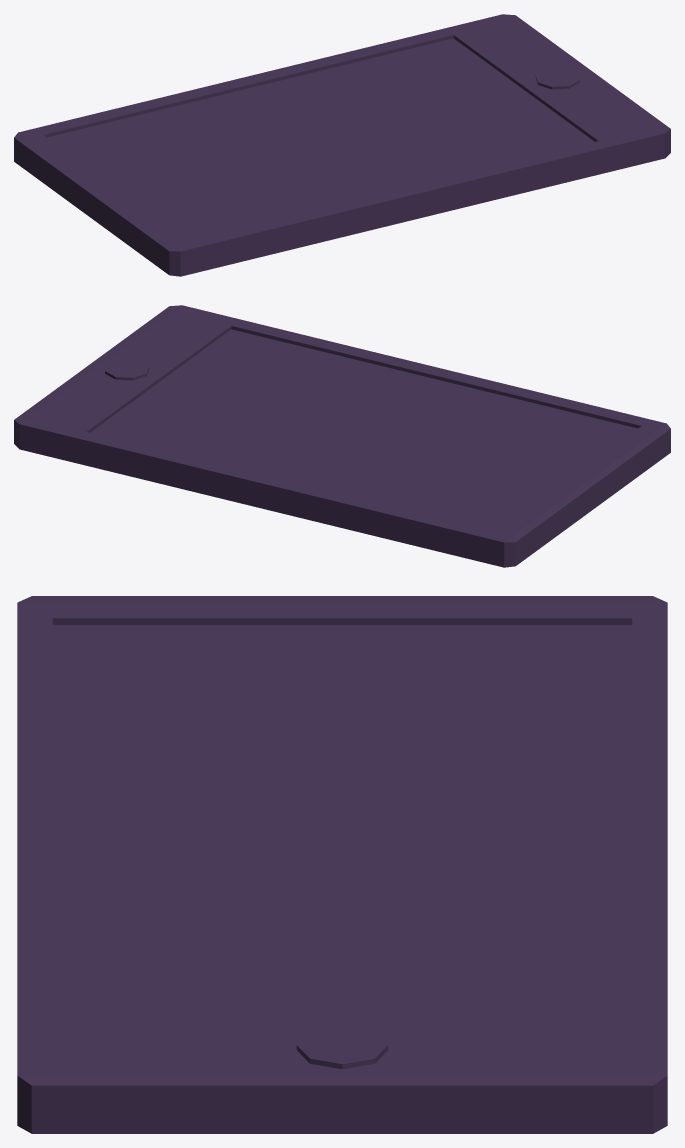
File: cellphone.glb
The picture shows the model from 3 angles, top to bottom: view 1: azimuth 30°, elevation 25°; view 2: azimuth 150°, elevation 25°; view 3: azimuth 270°, elevation 25°; orthographic projection. The views are drawn at different scales.
Parts seen in each view (by area): view 1: Cube, Cylinder; view 2: Cube, Cylinder; view 3: Cube, Cylinder.
Part boxes in pixels (left/top/right/bottom): Cube: left=14, top=14, right=670, bottom=276; Cylinder: left=535, top=68, right=579, bottom=89; Cube: left=14, top=305, right=670, bottom=567; Cylinder: left=105, top=359, right=149, bottom=380; Cube: left=17, top=596, right=667, bottom=1133; Cylinder: left=296, top=1025, right=388, bottom=1069.
Size of the model in its own units: 2.27 by 0.1199 by 1.27.
